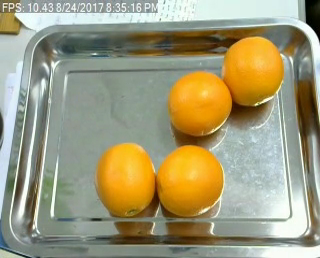Orange: (155, 143, 225, 216), (220, 35, 286, 107), (93, 142, 154, 217), (166, 70, 231, 136)
